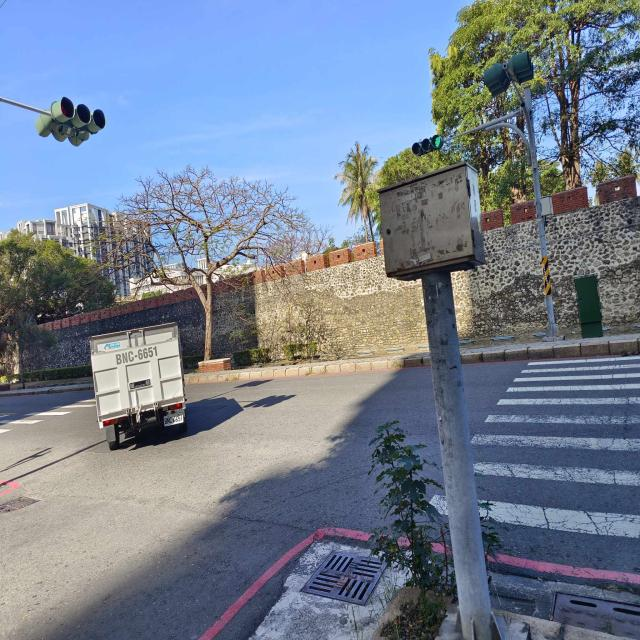zebra crossing: (468, 358, 639, 534), (3, 397, 95, 433), (428, 478, 449, 521)
